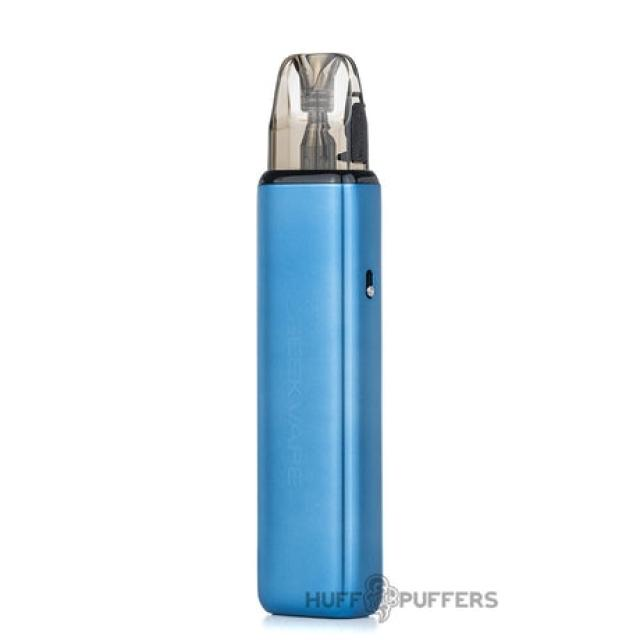Vapes: (257, 53, 383, 615)
